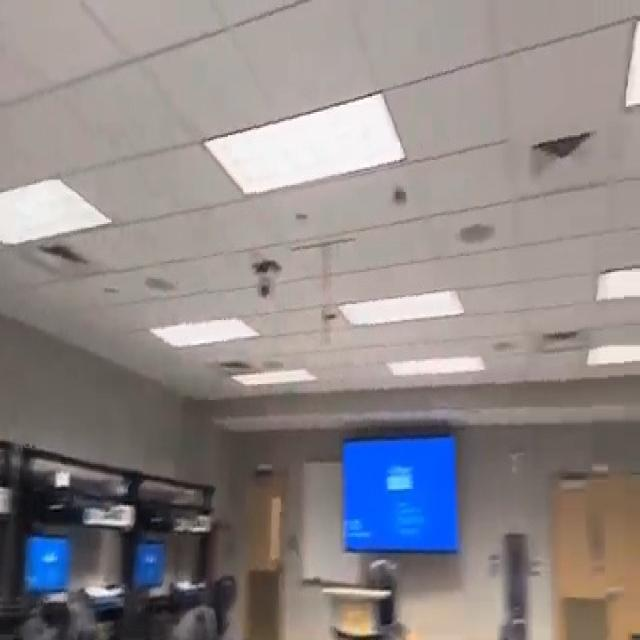drone: (374, 161, 418, 219)
